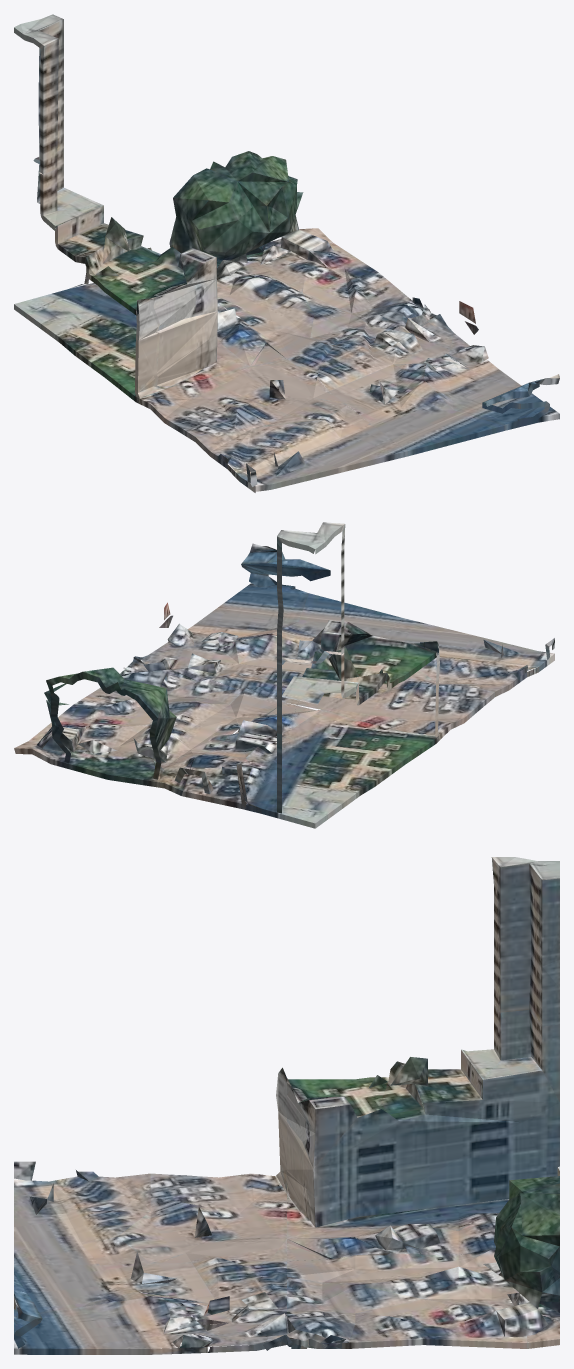
The model's file is chunk_-9_-2.glb.
The picture shows the model from 3 angles, top to bottom: view 1: azimuth 30°, elevation 25°; view 2: azimuth 150°, elevation 25°; view 3: azimuth 270°, elevation 25°; orthographic projection. The views are drawn at different scales.
Parts seen in each view (by area): view 1: hero-chunk; view 2: hero-chunk; view 3: hero-chunk.
Boxes of the visible parts, box(x1,y1,x2,y2) form: hero-chunk: box(14, 14, 559, 492); hero-chunk: box(14, 522, 554, 828); hero-chunk: box(14, 857, 559, 1354).
Size of the model in its own units: 56.35 by 50.98 by 76.33.
2 materials, 2 textured.
